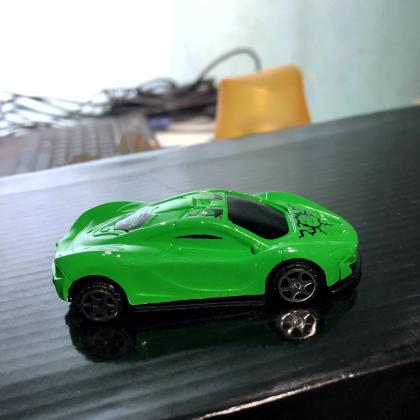Car: (51, 190, 362, 322)
